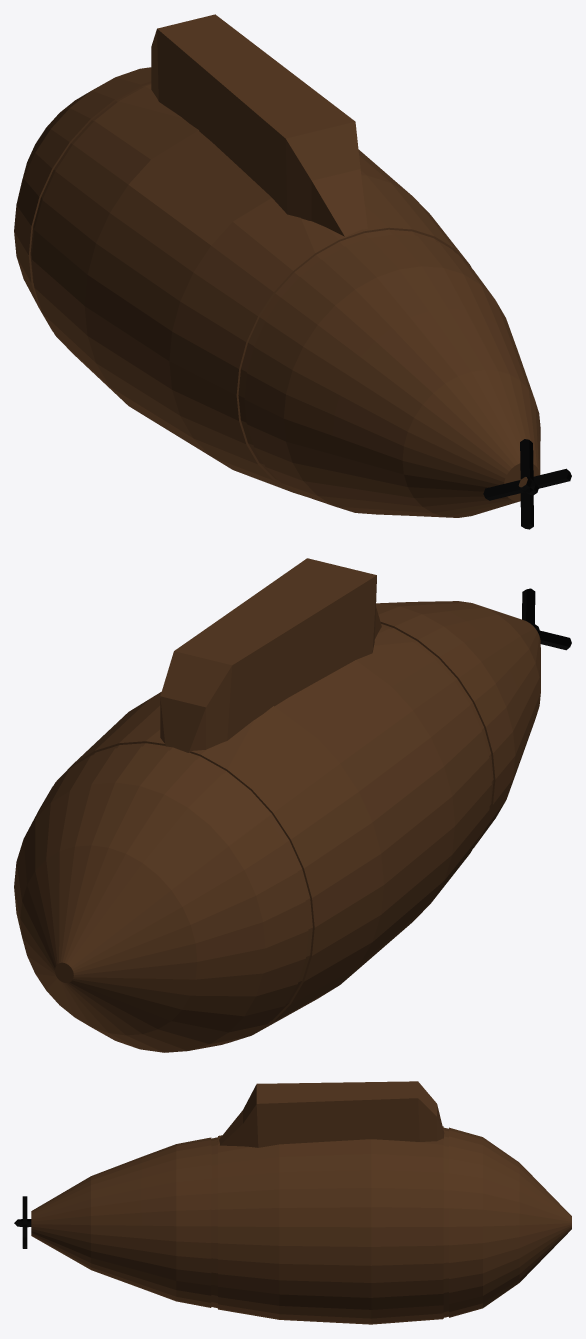
Rendered from submarine.glb.
3 renders of one model, top to bottom at view 1: azimuth 30°, elevation 25°; view 2: azimuth 150°, elevation 25°; view 3: azimuth 270°, elevation 25°, orthographic. The views are drawn at different scales.
Visible parts, largest first — view 1: Plane.001; view 2: Plane.001; view 3: Plane.001.
Boxes of the visible parts, bbox=[...] form: Plane.001: bbox=[14, 14, 571, 529]; Plane.001: bbox=[14, 558, 571, 1052]; Plane.001: bbox=[14, 1081, 571, 1324].
Bounding box in the file's own units: 75.84 × 91.5 × 208.
